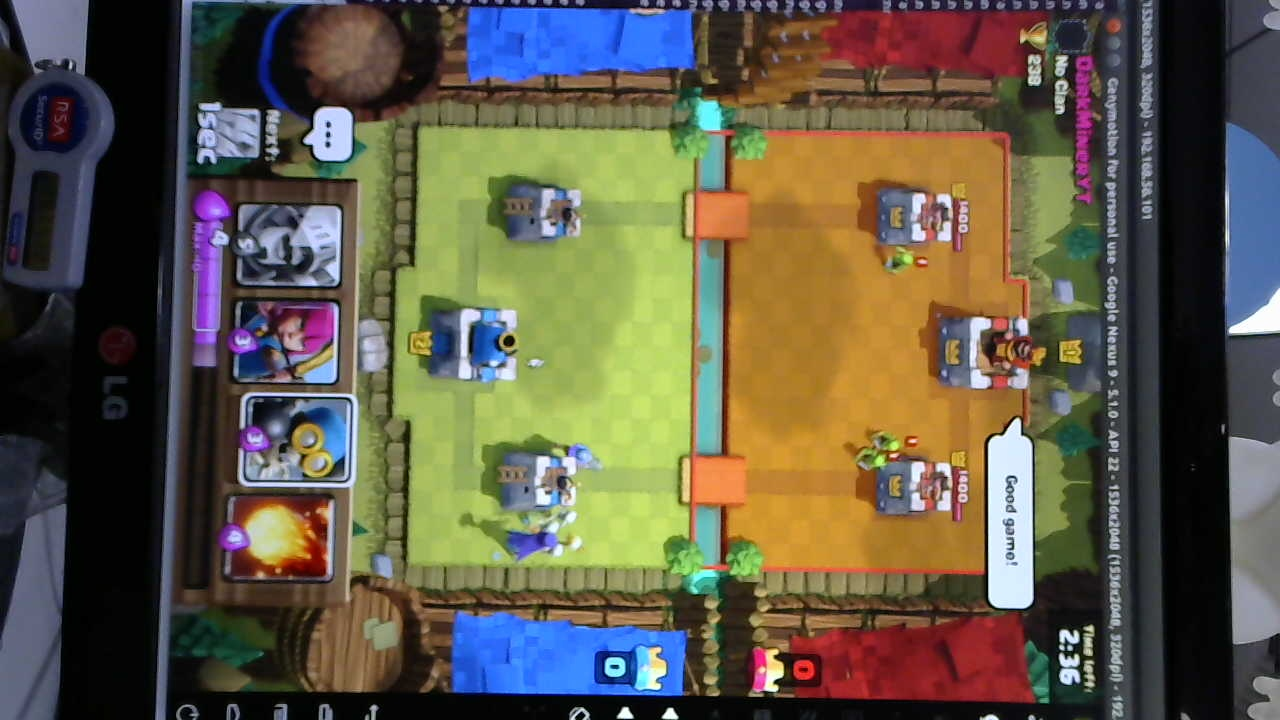arena: (498, 178, 578, 245), (500, 452, 580, 510)
earena: (877, 452, 949, 522), (880, 190, 956, 246)
eking: (939, 315, 1038, 391)
goblin: (872, 246, 930, 275)
goblins: (853, 428, 909, 478)
king: (430, 307, 521, 384)
musketeer: (560, 441, 604, 471)
witch: (499, 526, 582, 561)
